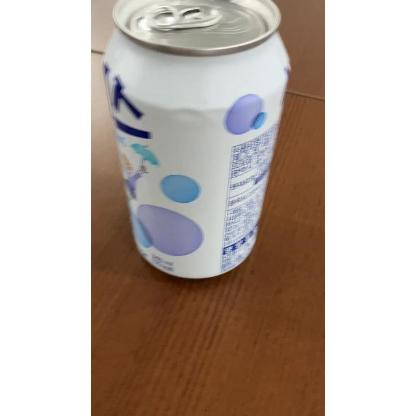Can: (100, 0, 294, 280)
